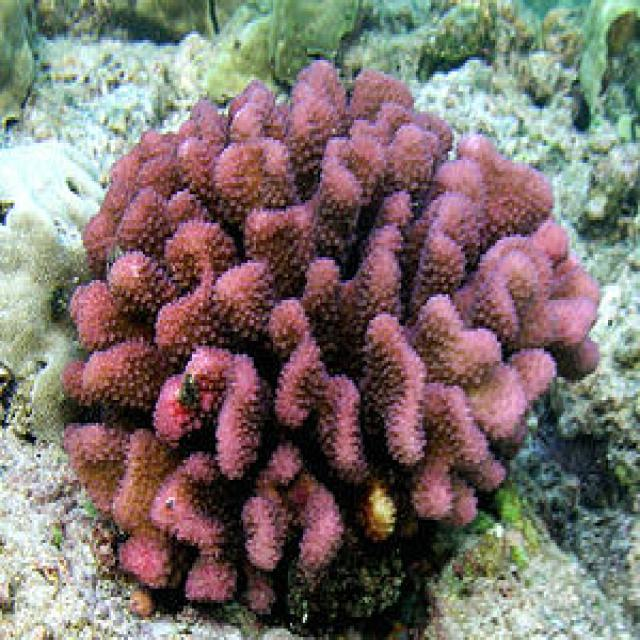Coral: (62, 59, 600, 617)
